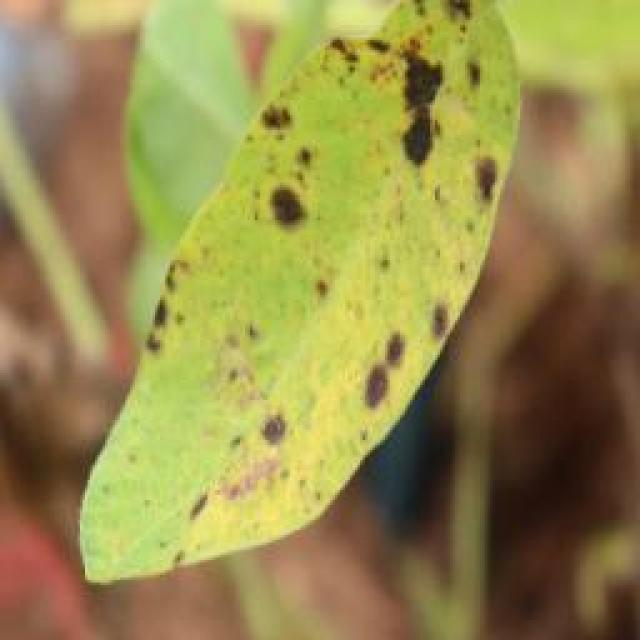Yellowish: (97, 9, 520, 564)
